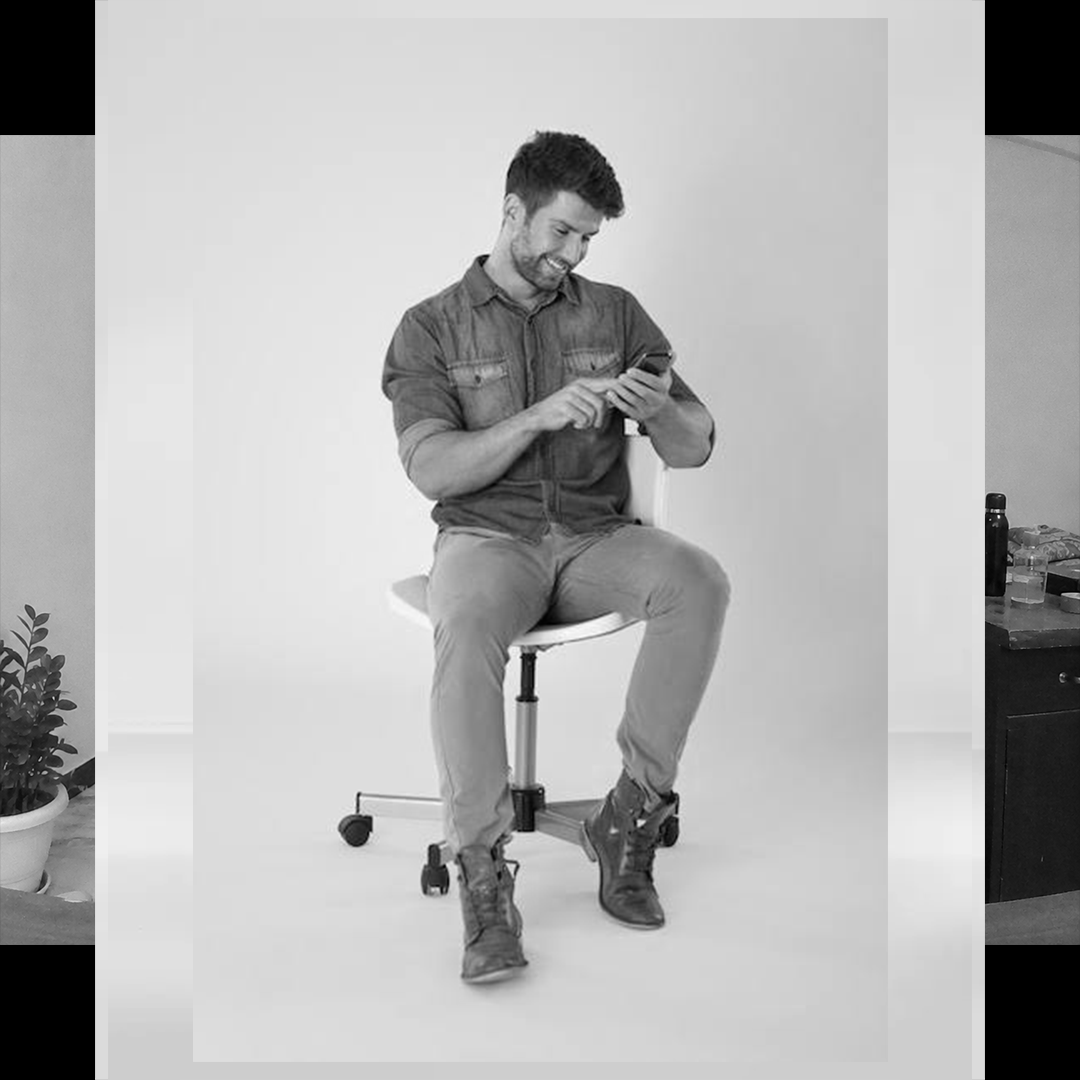distracted: (379, 77, 689, 649)
